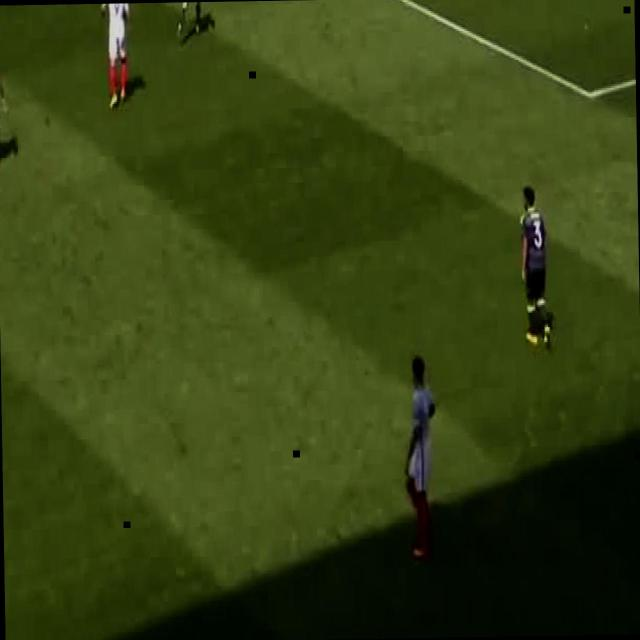player-white: (401, 356, 437, 560), (520, 186, 550, 348), (98, 3, 130, 108), (176, 2, 206, 38), (0, 24, 4, 163)
